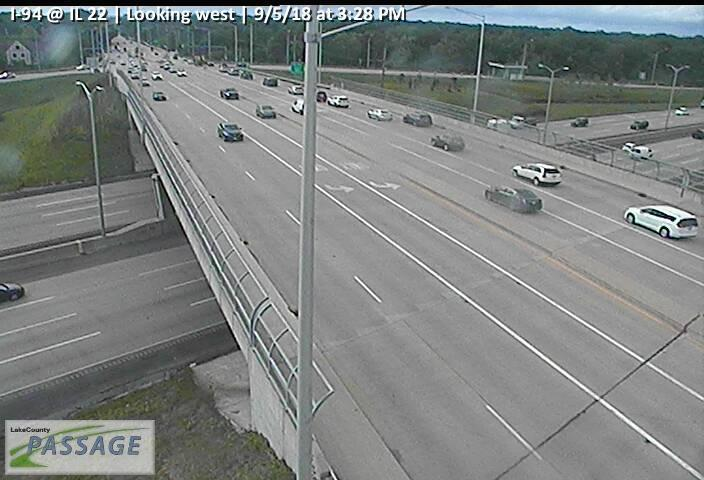SUV: (624, 203, 699, 240), (511, 163, 560, 186), (401, 112, 432, 128), (367, 109, 391, 122), (325, 96, 348, 107)
Sedan: (483, 183, 543, 213), (428, 130, 466, 151), (217, 121, 243, 142), (255, 104, 275, 118), (220, 87, 239, 100), (262, 76, 278, 88), (569, 117, 587, 127), (293, 99, 304, 114), (288, 85, 304, 94), (151, 91, 165, 101), (150, 71, 162, 80), (176, 69, 187, 76), (141, 78, 149, 86)
Truck: (509, 115, 537, 130)
